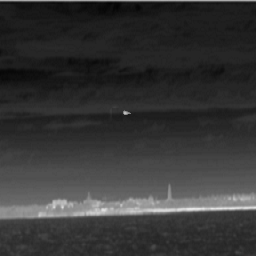Target: (122, 110, 132, 115)
